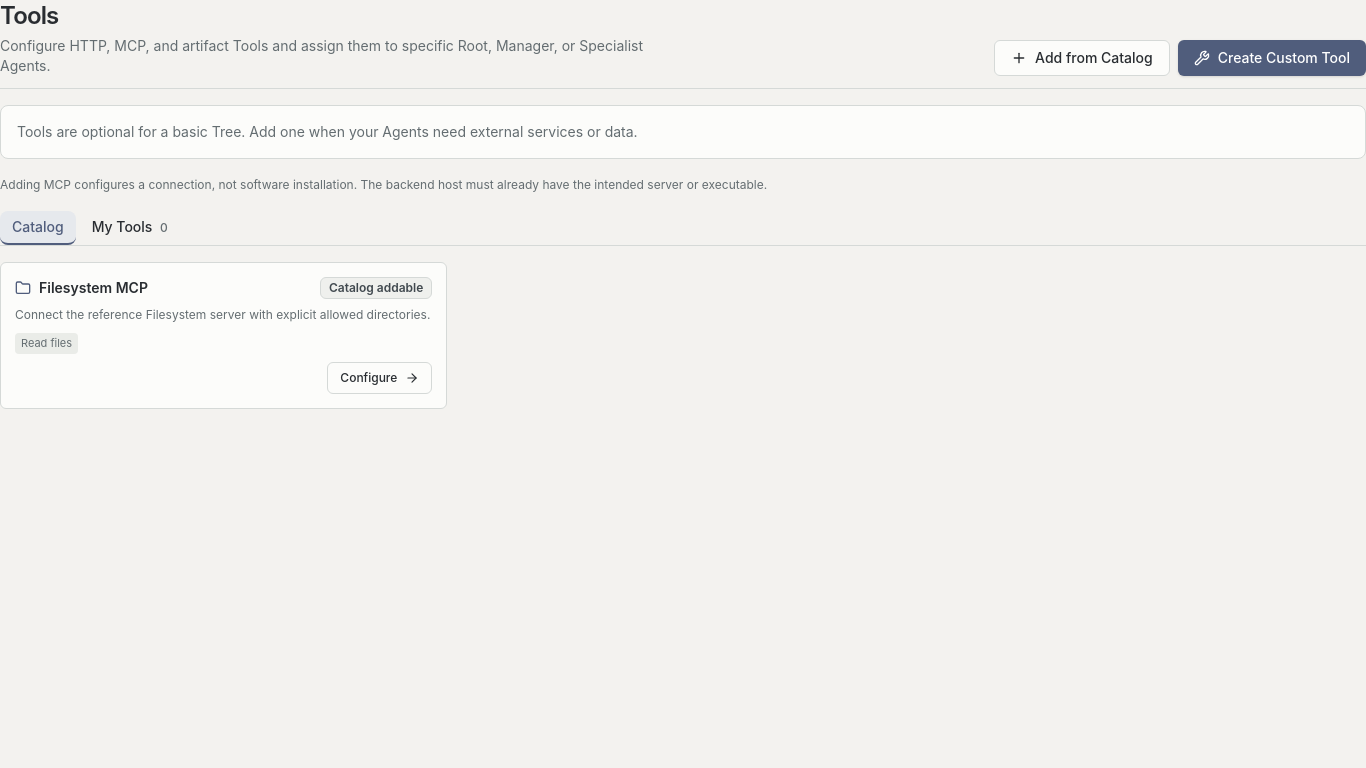
Scenario: ToolsPage MCP UX › presents MCP registration with source and scope without pretending to install
Click the button "Configure" at [380, 378], box [327,362,432,394]
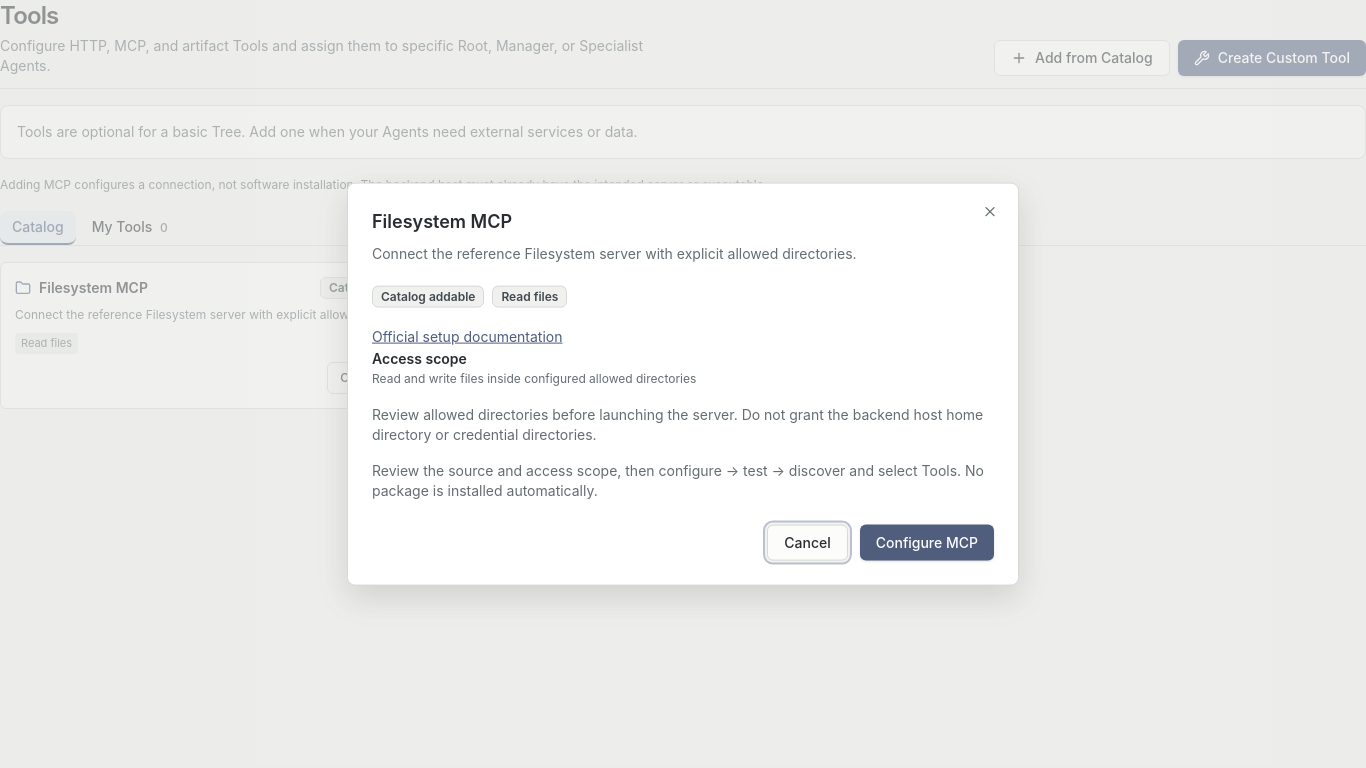
expect the text "Read and write files inside configured allowed directories" is shown: met, box [372,370,696,385]
expect the button "Configure MCP" is shown: met, box [860,524,994,560]
